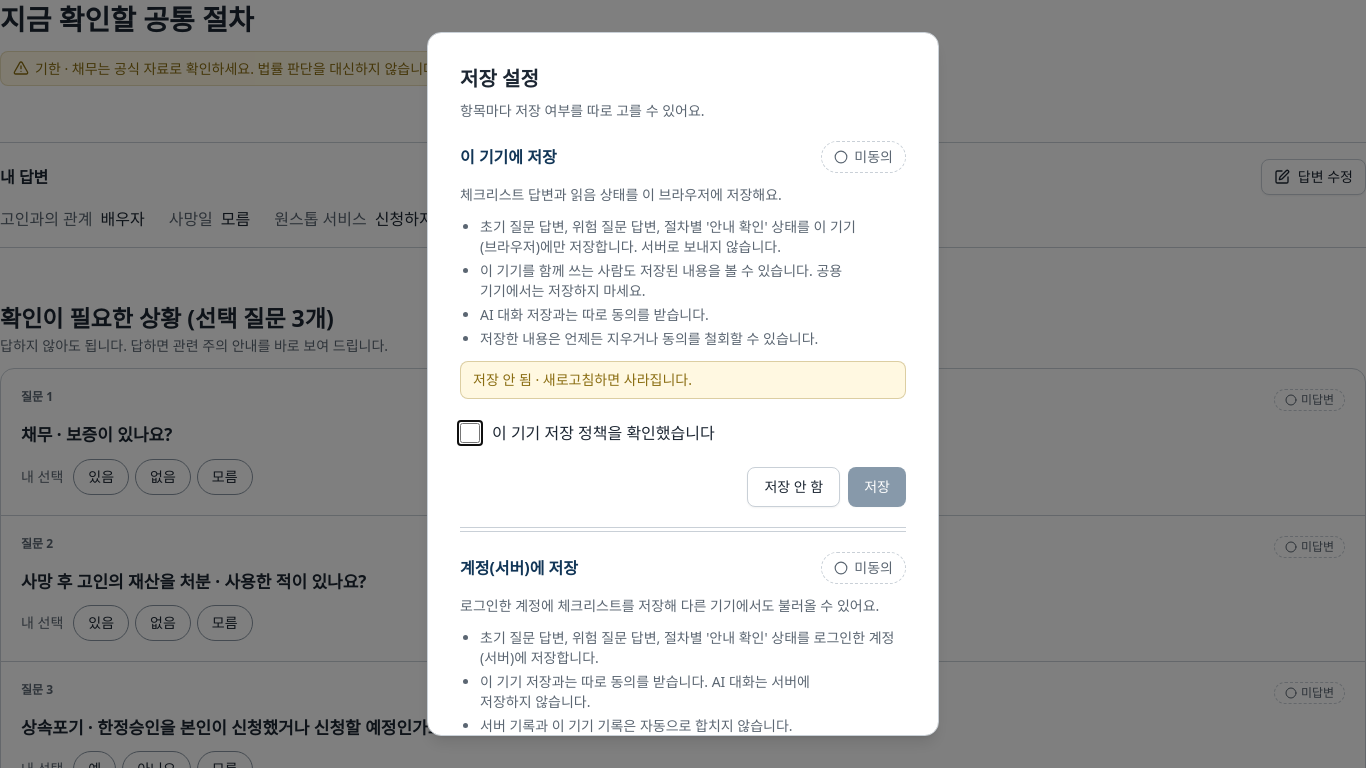
Test case: 이 기기 저장 동의와 서버 저장 동의의 독립 (4-6-1) › 이 기기 저장에 동의해도 서버 저장 동의는 '없음' 그대로이고 서버 저장 요청은 0건이다
The image size is (1366, 768).
What coordinates should you click on to do the following:
click the checkbox labelled "이 기기 저장 정책을 확인했습니다"
I would click on:
 (470, 432)
Its box is [460,422,480,442].
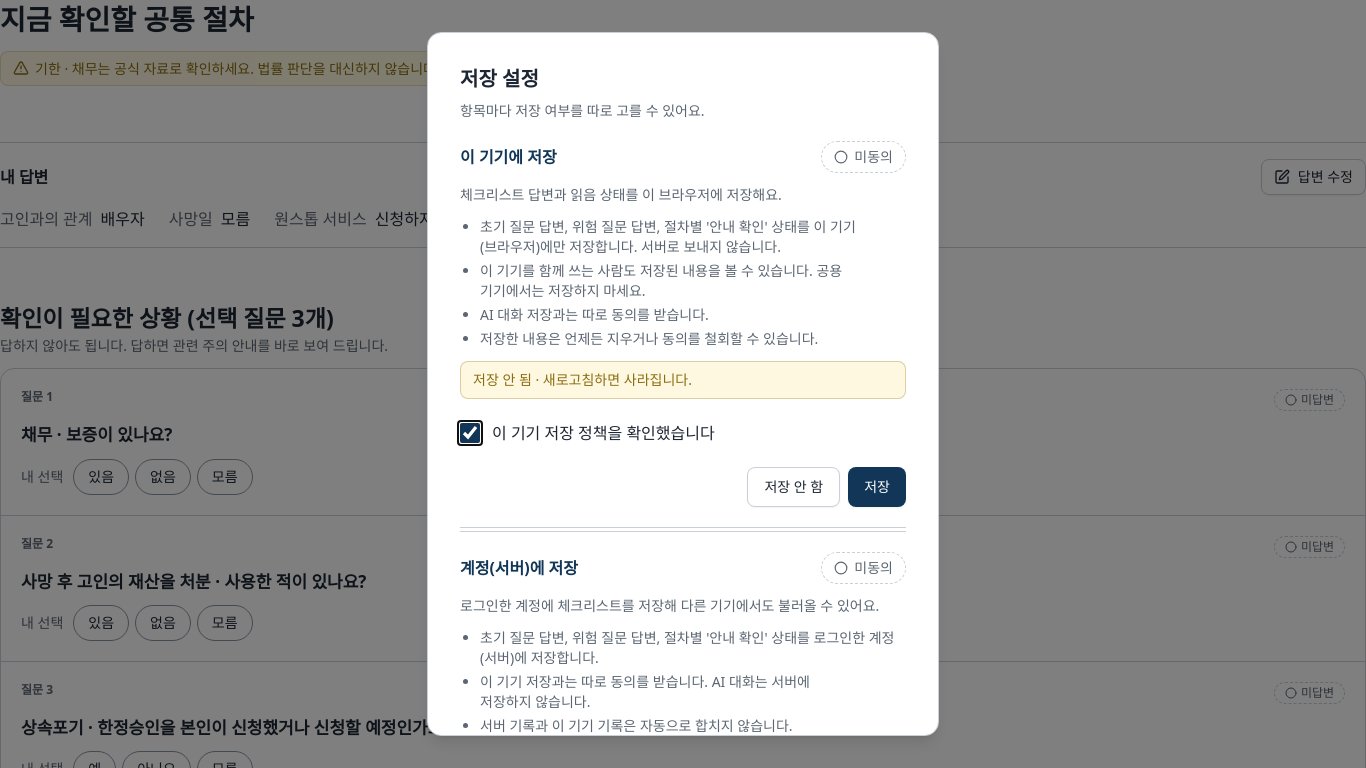
What coordinates should you click on to do the following:
click the button "저장"
I would click on:
 (877, 486)
Its box is [848,466,906,506].
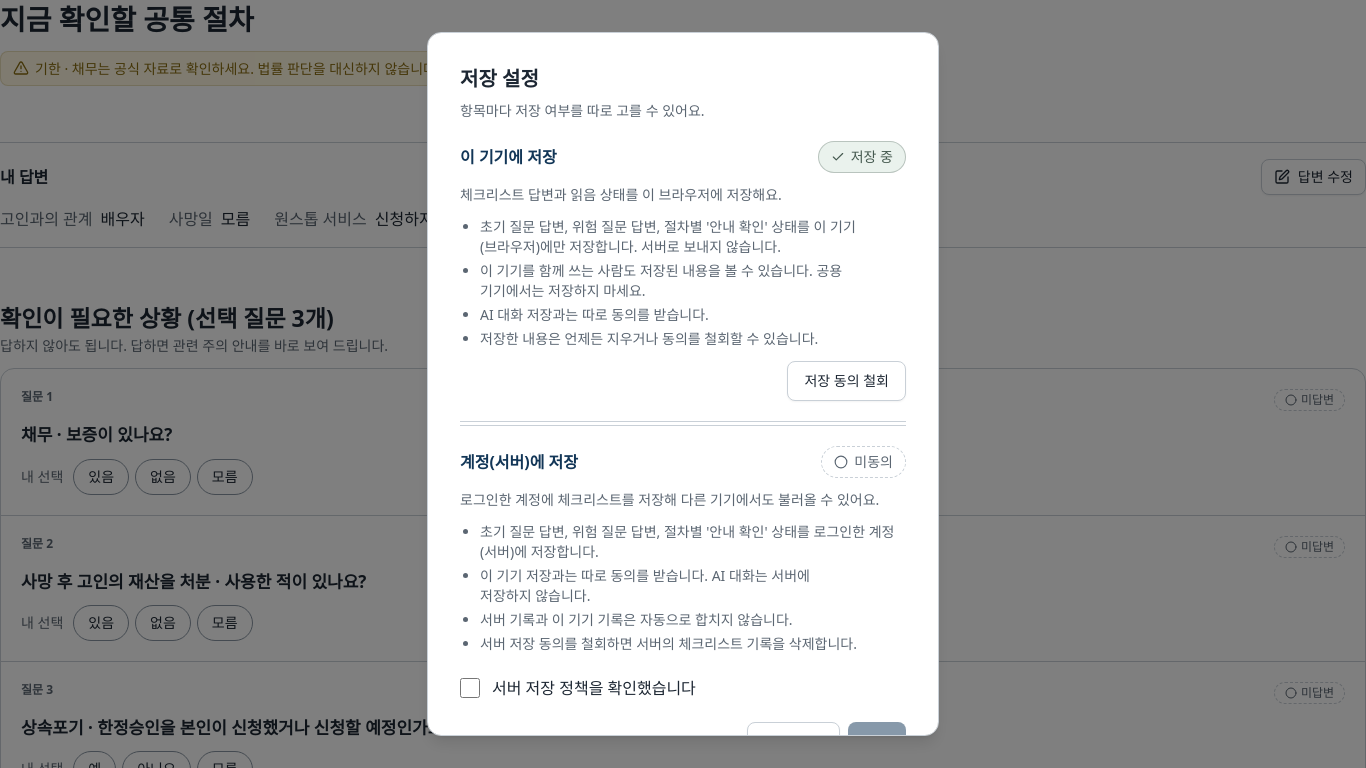
Expected: the checkbox labelled "서버 저장 정책을 확인했습니다" is shown, [460,678,480,698]
Expected: the text "저장 중" is shown, [818,140,906,172]
